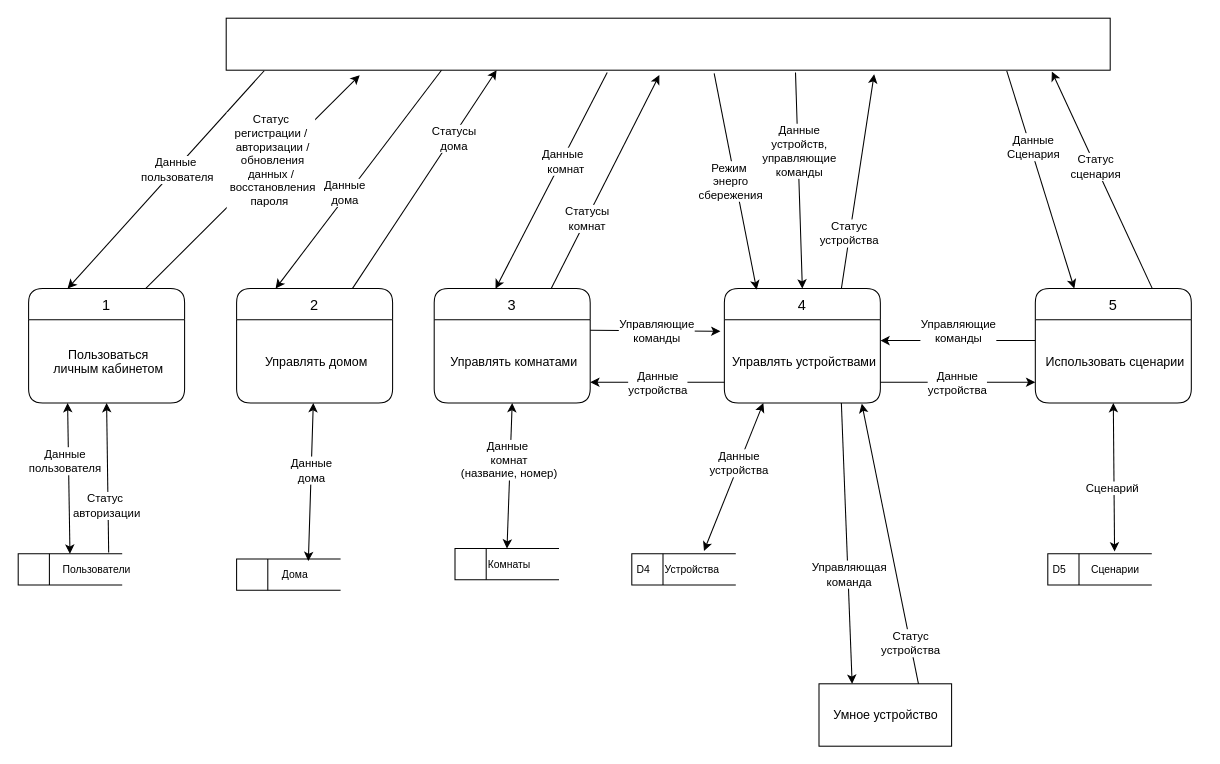
Some shapes in this 1220 by 764 pixel diagram are drawn without their labels. Each missing label, with the box of its shape:
D1: (17, 553, 122, 585)
D2: (236, 558, 341, 590)
D3: (454, 548, 559, 580)
Пользователь: (225, 17, 1110, 70)
